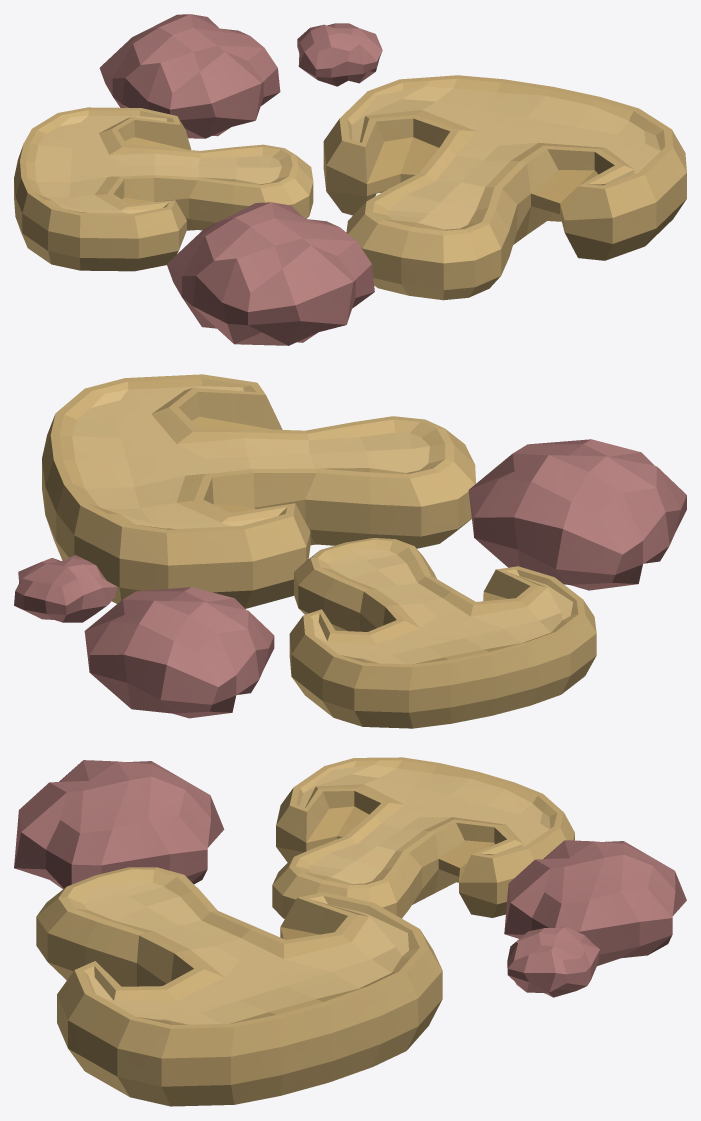
Rendered from mushrooms_sliced.glb.
3 views of the same model, one above another, from view 1: azimuth 30°, elevation 25°; view 2: azimuth 150°, elevation 25°; view 3: azimuth 270°, elevation 25° (orthographic). The views are drawn at different scales.
Visible parts, largest first — view 1: mushrooms_sliced; view 2: mushrooms_sliced; view 3: mushrooms_sliced.
Boxes of the visible parts, x1,y1,x2,y2 form: mushrooms_sliced: [14, 14, 686, 345]; mushrooms_sliced: [14, 374, 686, 728]; mushrooms_sliced: [14, 757, 686, 1106].
Bounding box in the file's own units: 0.075 × 0.0152 × 0.073.
1 material, 1 textured.
